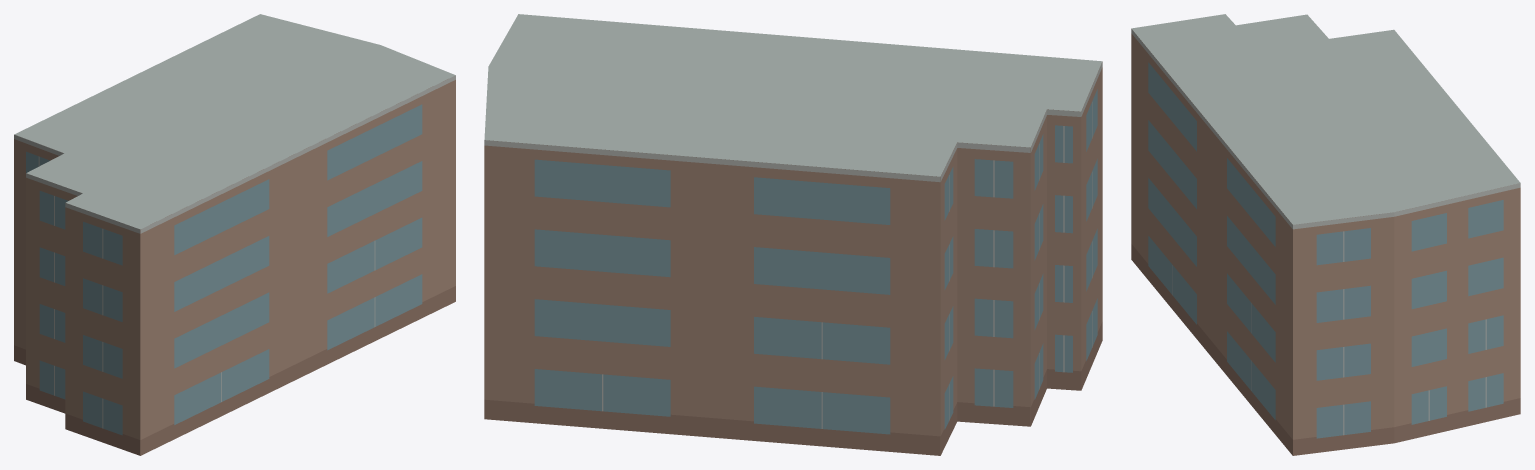
Rendered from survey-upis-32804006.glb.
3 renders of one model, left to right at view 1: azimuth 30°, elevation 25°; view 2: azimuth 150°, elevation 25°; view 3: azimuth 270°, elevation 25°, orthographic. The views are drawn at different scales.
Visible parts, largest first — view 1: survey-upis-32804006.tmp; view 2: survey-upis-32804006.tmp; view 3: survey-upis-32804006.tmp.
Part boxes in pixels (bbox=[...]): survey-upis-32804006.tmp: bbox=[14, 14, 455, 455]; survey-upis-32804006.tmp: bbox=[484, 14, 1102, 455]; survey-upis-32804006.tmp: bbox=[1131, 14, 1520, 455].
Bounding box in the file's own units: 24.28 × 12.4 × 18.95.
